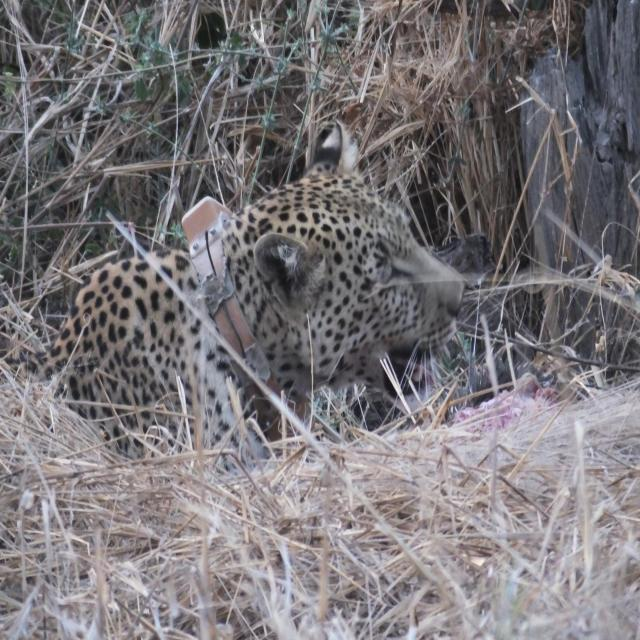Leopard: (21, 118, 453, 446)
